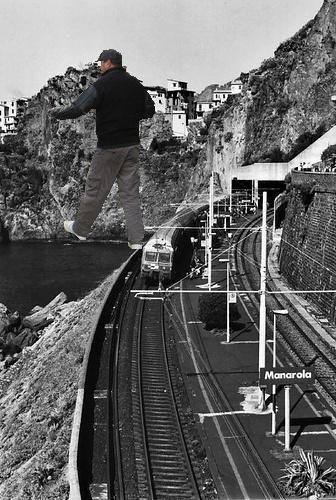tampered: (54, 50, 155, 249)
